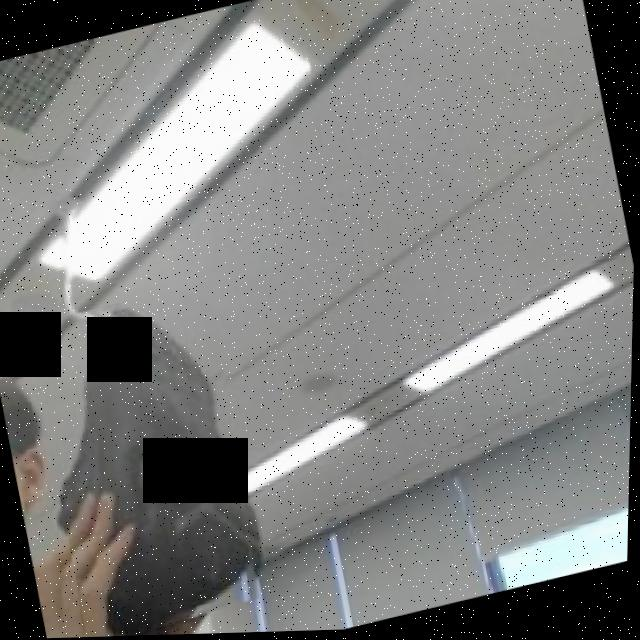shoe: (23, 279, 281, 639)
